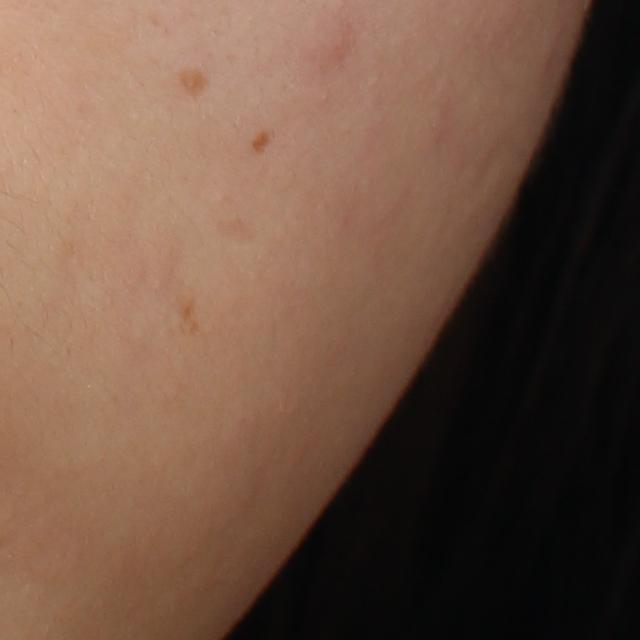nevus: (176, 64, 214, 104), (250, 128, 276, 156)
